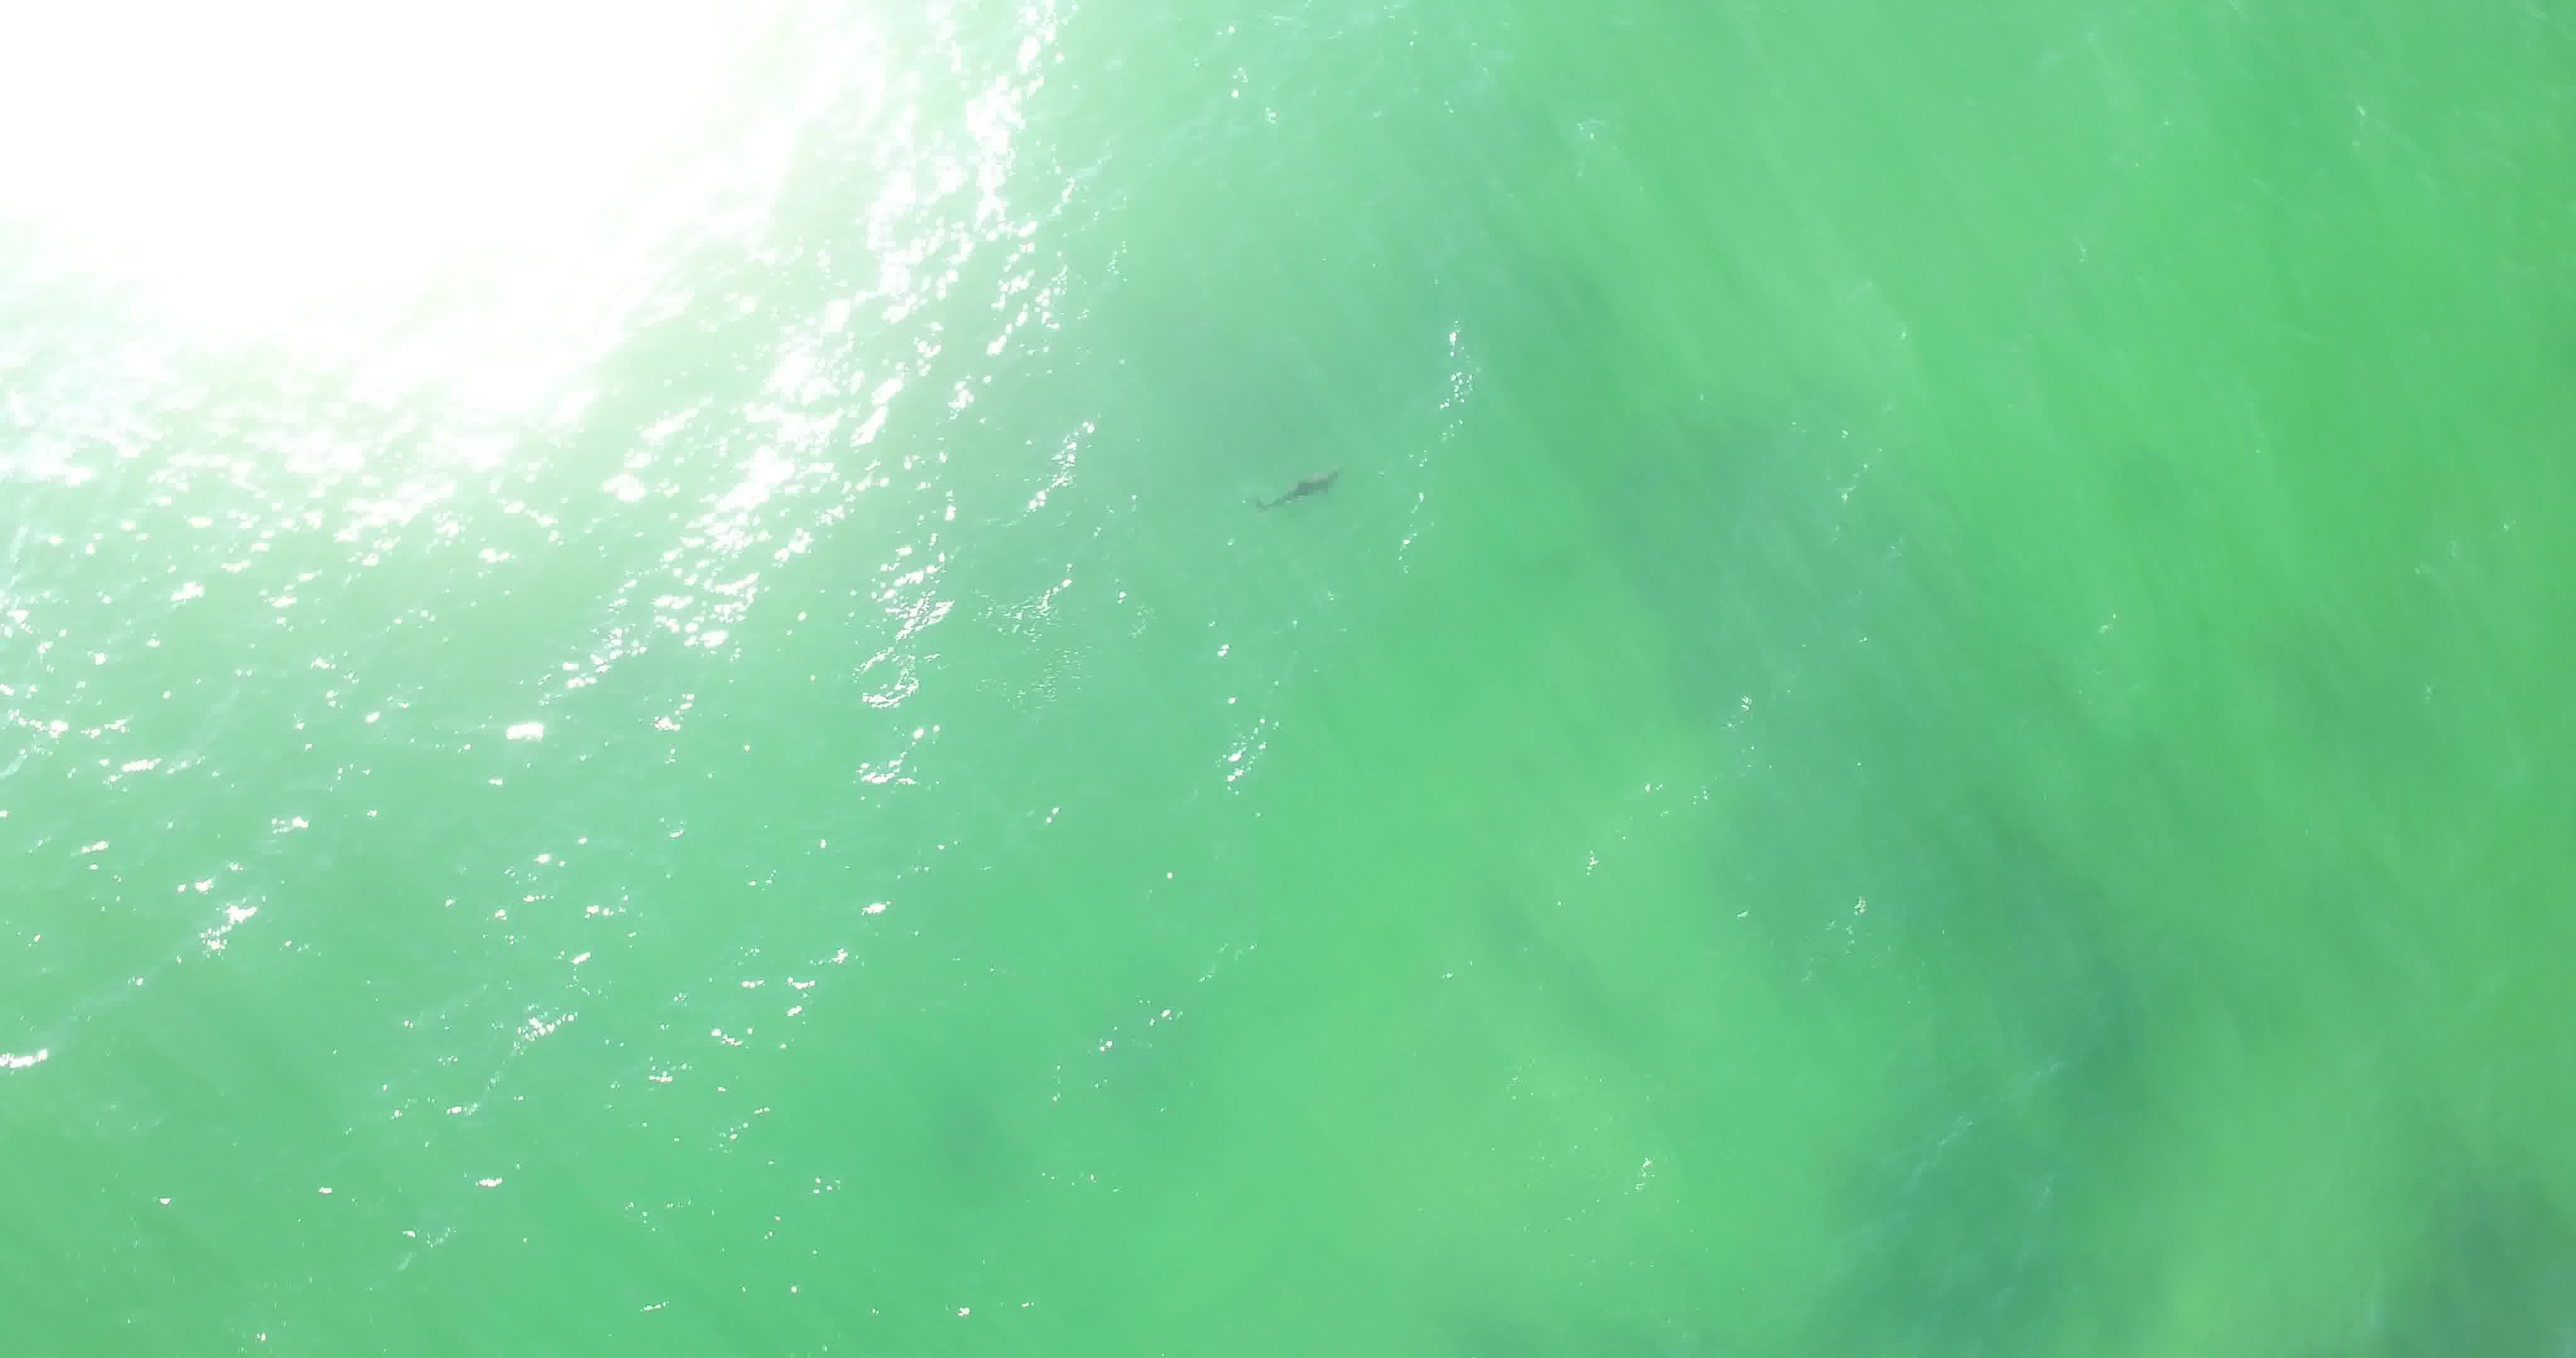dolphin: (1228, 426, 1373, 525)
